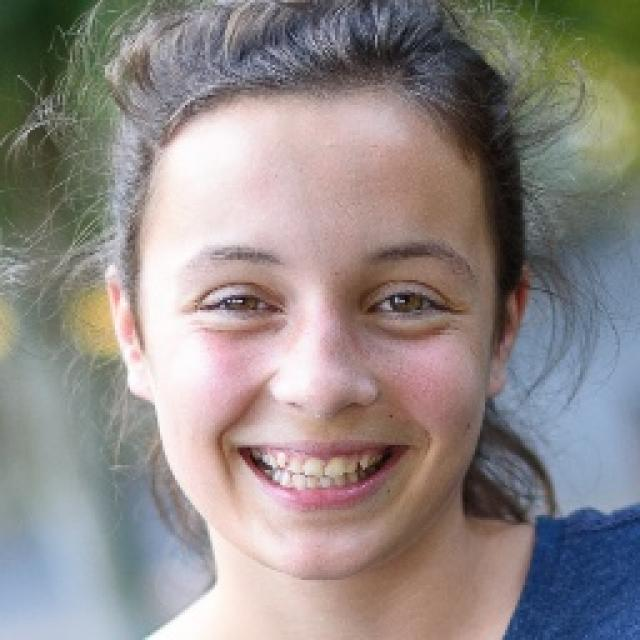earlobe: (124, 351, 154, 403), (484, 352, 508, 400)
eye: (197, 286, 286, 321), (369, 288, 449, 319)
nose: (272, 396, 378, 434)
wholeear: (104, 262, 155, 403), (483, 263, 533, 400)
